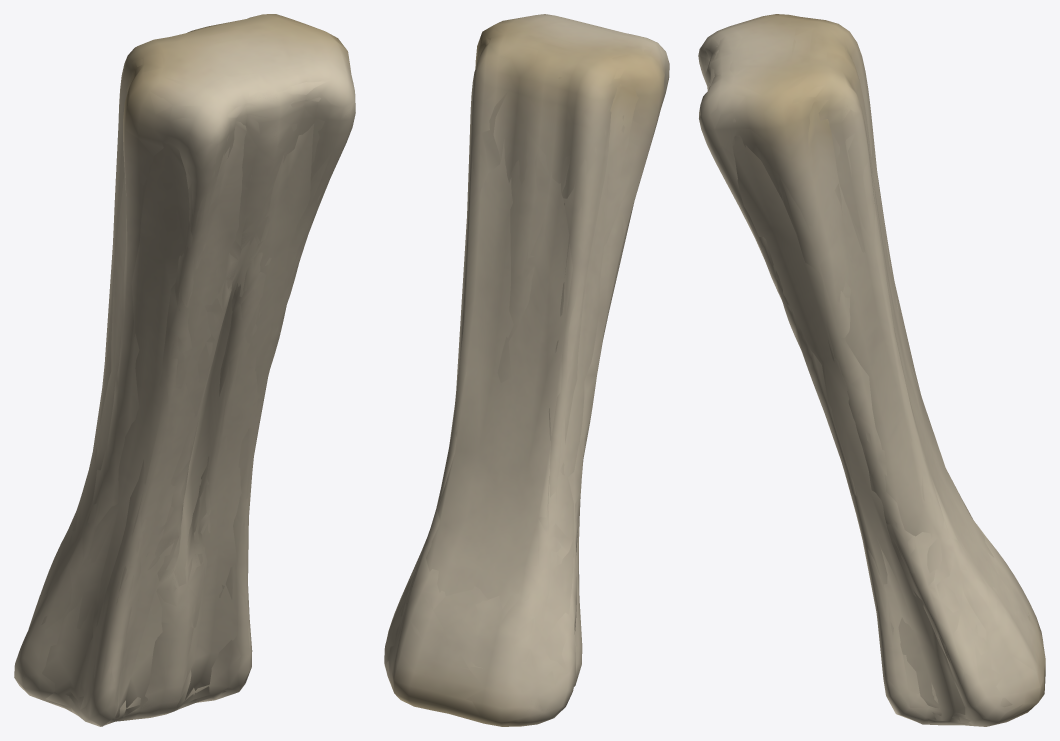
File: vertebrae caudales 09.fbx
The picture shows the model from 3 angles, left to right: view 1: azimuth 30°, elevation 25°; view 2: azimuth 150°, elevation 25°; view 3: azimuth 270°, elevation 25°; orthographic projection. The views are drawn at different scales.
Parts seen in each view (by area): view 1: vertebrae caudales 09 low, vertebrae caudales 09, vertebrae caudales 09 high; view 2: vertebrae caudales 09 low, vertebrae caudales 09, vertebrae caudales 09 high; view 3: vertebrae caudales 09 low, vertebrae caudales 09, vertebrae caudales 09 high.
Part boxes in pixels (x1,y1,x2,y2): vertebrae caudales 09 low: (39, 59, 329, 718); vertebrae caudales 09: (14, 14, 355, 726); vertebrae caudales 09 high: (14, 14, 354, 725); vertebrae caudales 09 low: (386, 34, 638, 673); vertebrae caudales 09: (384, 14, 669, 726); vertebrae caudales 09 high: (384, 15, 668, 726); vertebrae caudales 09 low: (705, 46, 1030, 723); vertebrae caudales 09: (698, 14, 1045, 726); vertebrae caudales 09 high: (698, 14, 1044, 724).
Bounding box in the file's own units: 2.1 × 6.58 × 3.16.
